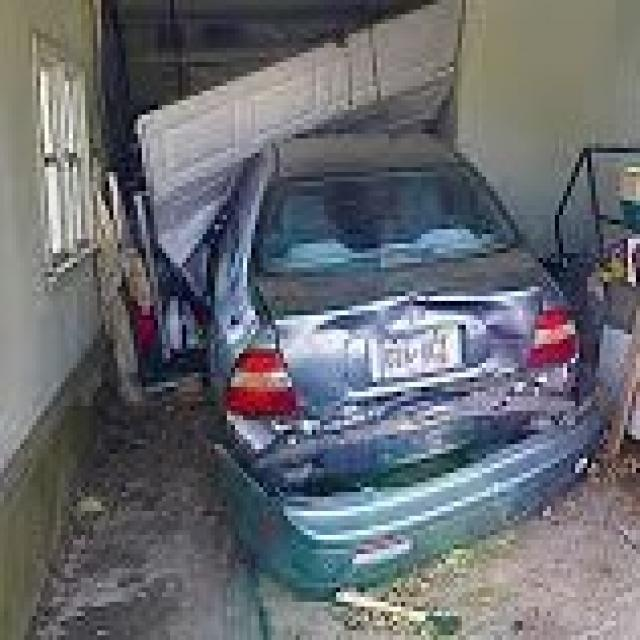moderate: (193, 98, 598, 560)
